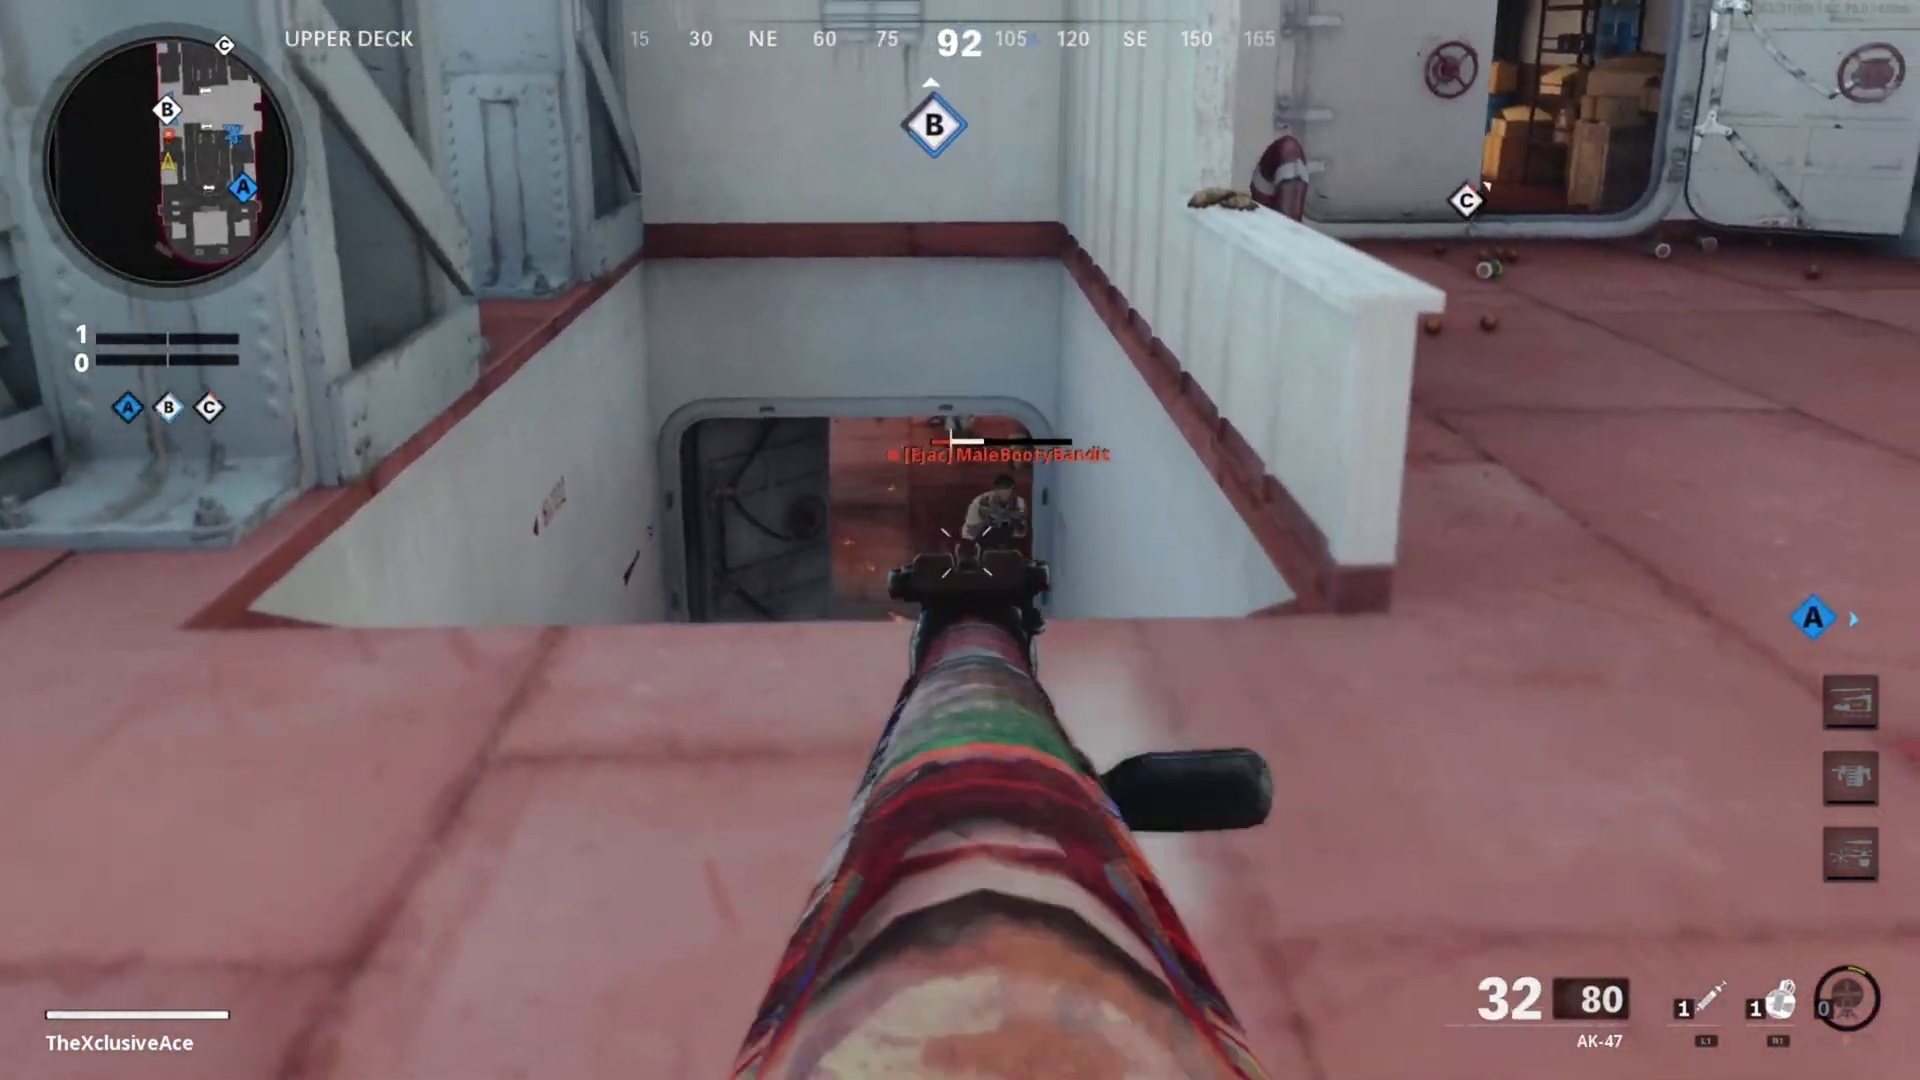head: (988, 471, 1020, 516)
person: (960, 469, 1031, 544)
